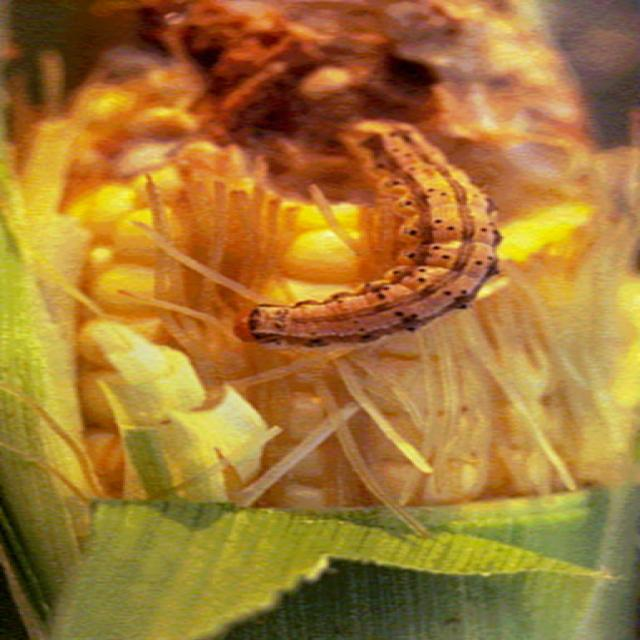Corn-earworm: (251, 109, 503, 359)
